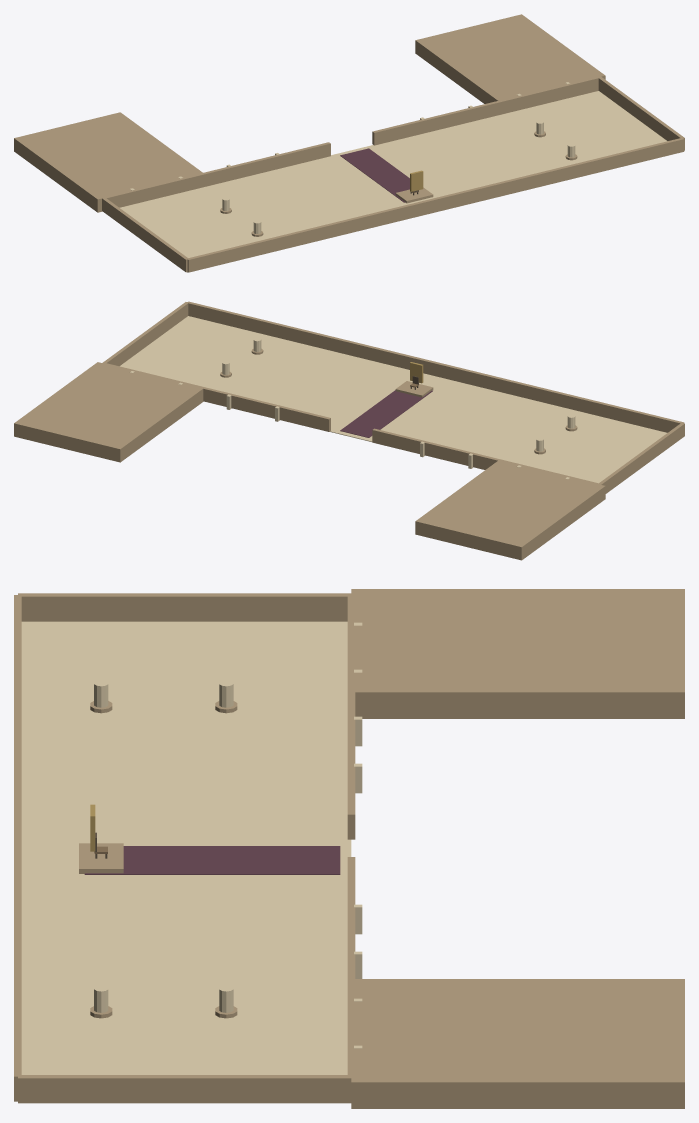
File: WalkTown_Palace_Structure.fbx
The picture shows the model from 3 angles, top to bottom: view 1: azimuth 30°, elevation 25°; view 2: azimuth 150°, elevation 25°; view 3: azimuth 270°, elevation 25°; orthographic projection. The views are drawn at different scales.
Visible parts, largest first — view 1: WalkTown_Palace_Structure; view 2: WalkTown_Palace_Structure; view 3: WalkTown_Palace_Structure.
Boxes of the visible parts, x1,y1,x2,y2 form: WalkTown_Palace_Structure: (14,14,684,272); WalkTown_Palace_Structure: (14,301,684,560); WalkTown_Palace_Structure: (14,589,684,1108).
Size of the model in its own units: 42 by 2.05 by 24.14.
